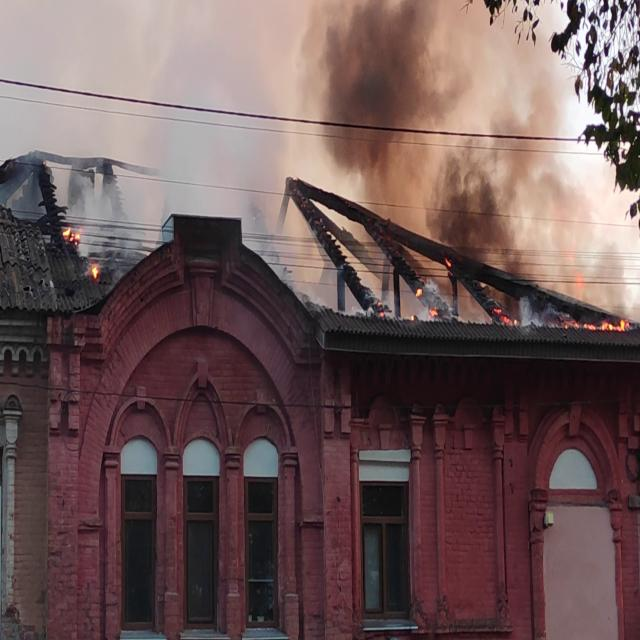fire: (558, 318, 630, 351)
smoke: (332, 7, 506, 266)
